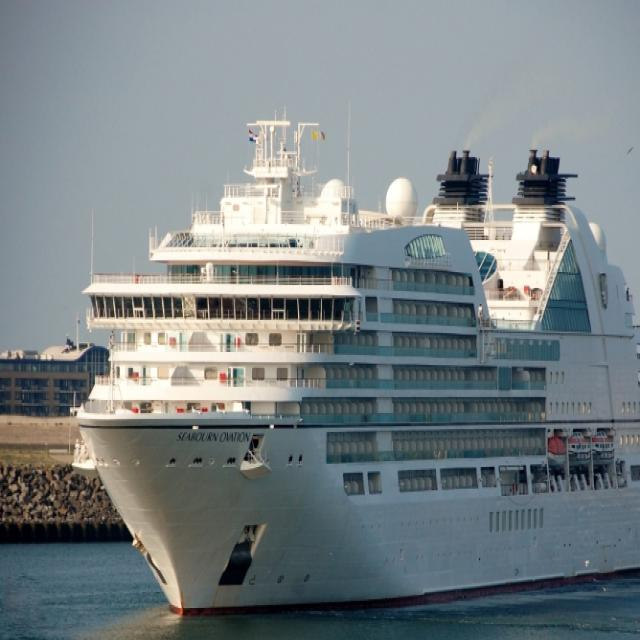cruises: (68, 113, 640, 628)
